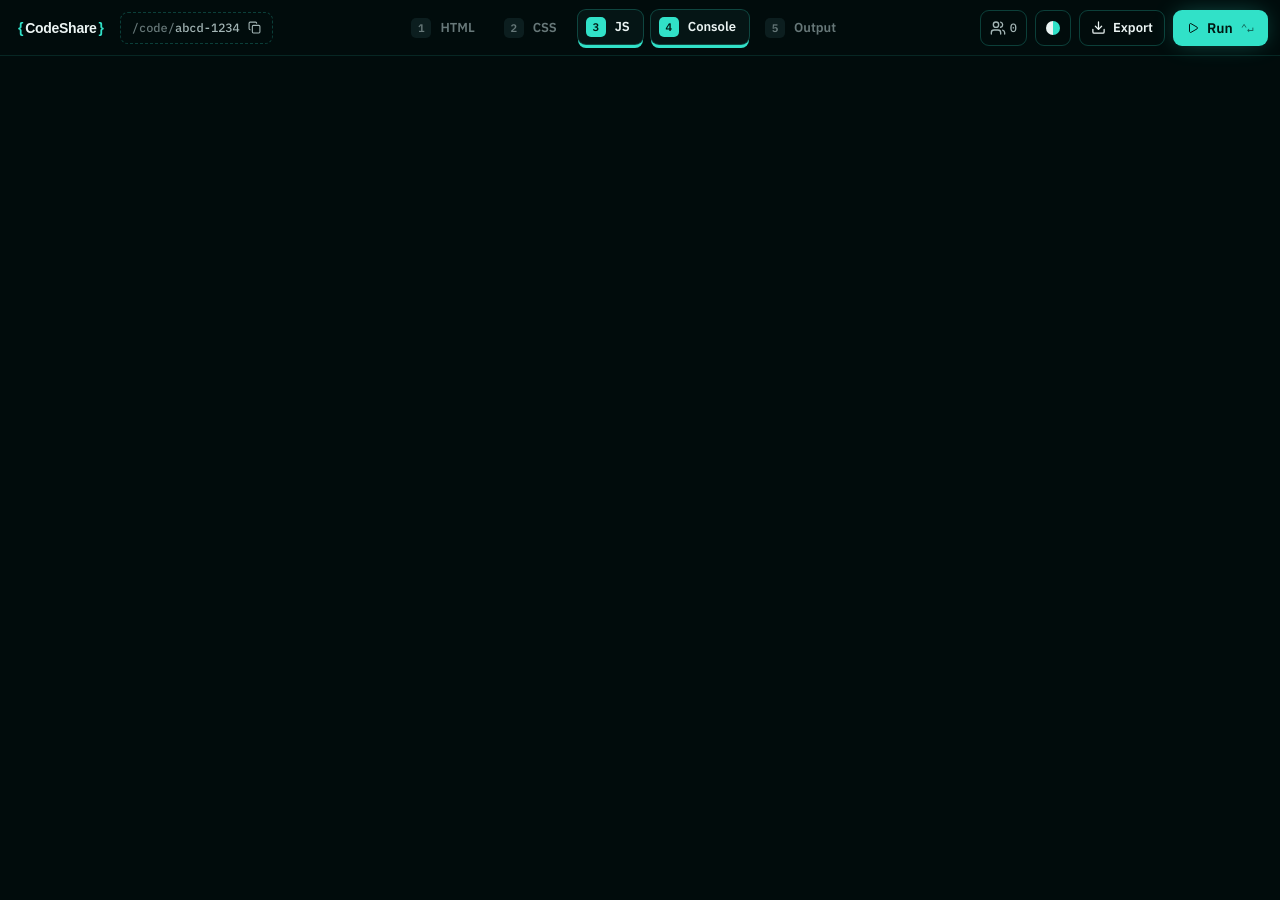
copies the room link and shows a toast
Click the button titled "copy room link" at [196, 28], box [120, 12, 273, 44]
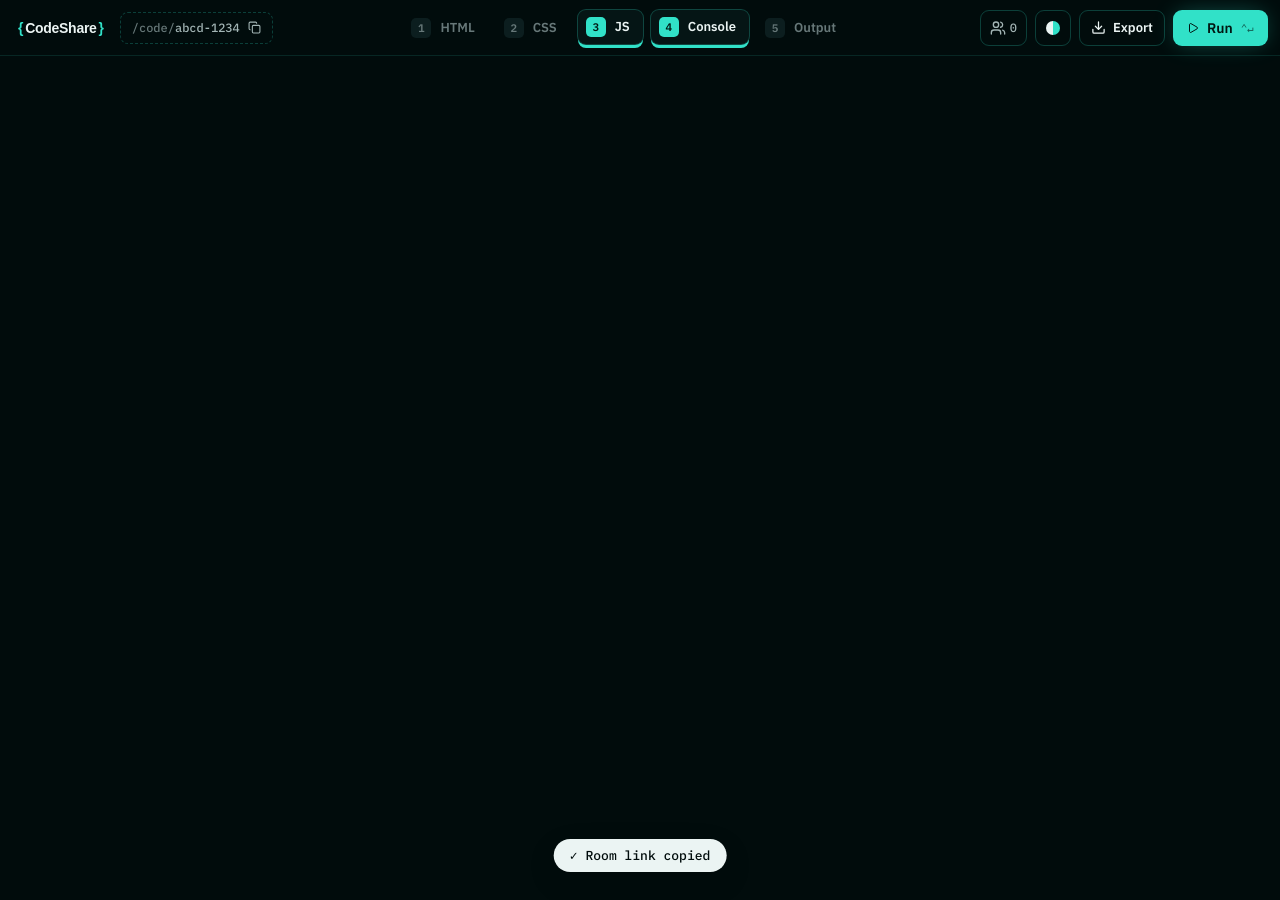
Check: the text "Room link copied" is shown, box [586, 847, 710, 864]
